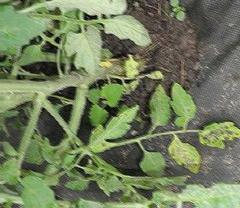Tomato Septoria leaf spot: (166, 133, 202, 178), (196, 119, 240, 149)
